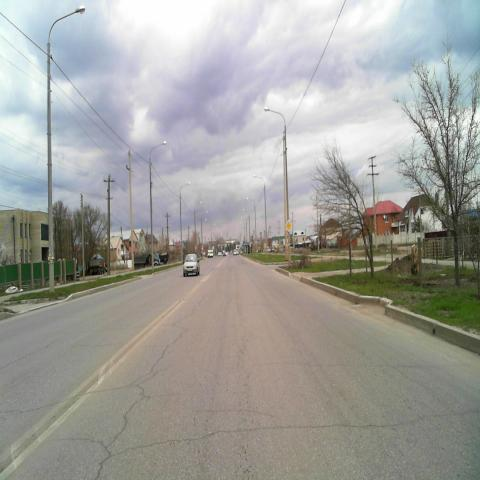2_1: (285, 220, 293, 232)
